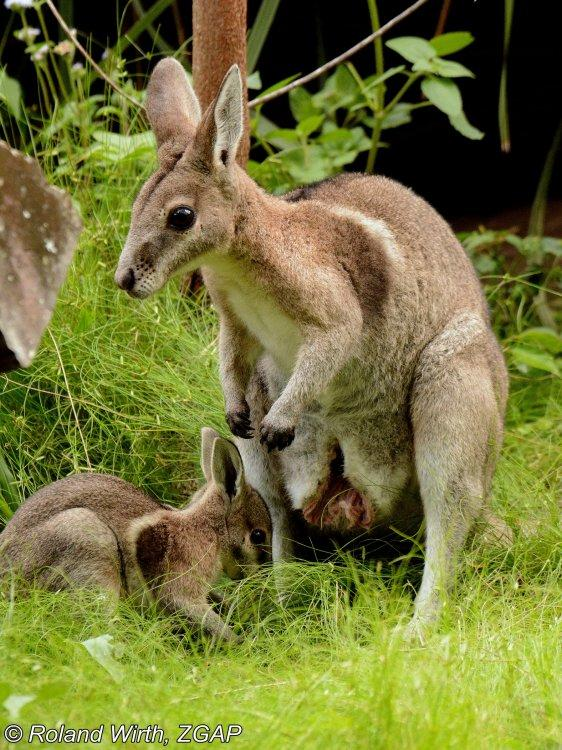Bridled-nail-tail wallaby: (115, 56, 545, 655), (0, 429, 276, 653)
